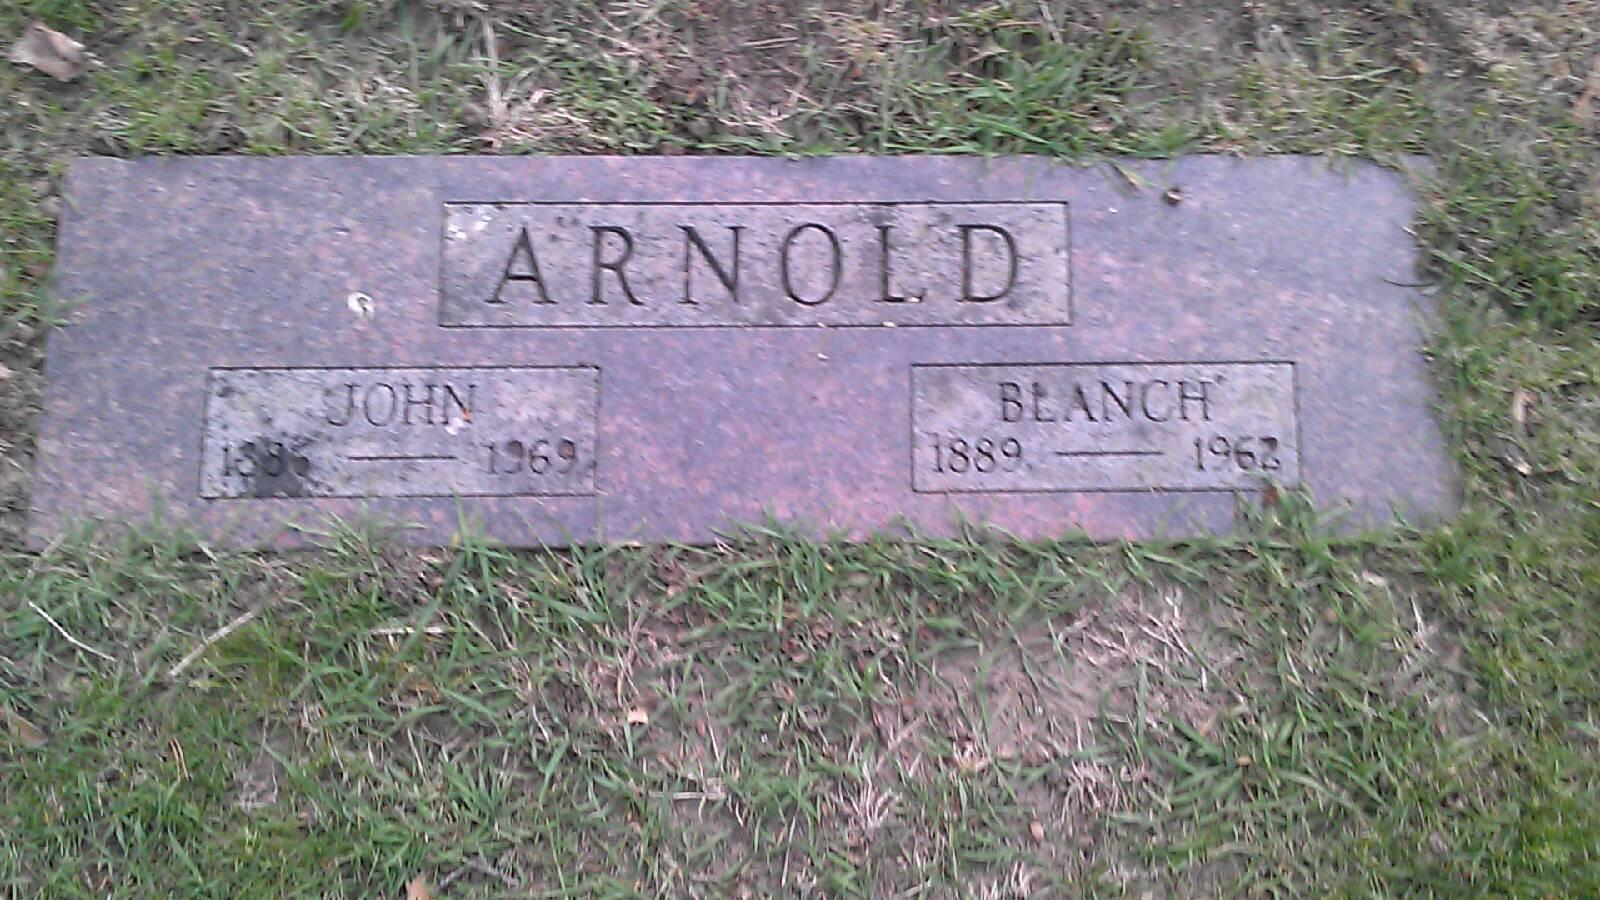flat: (25, 140, 1485, 558)
